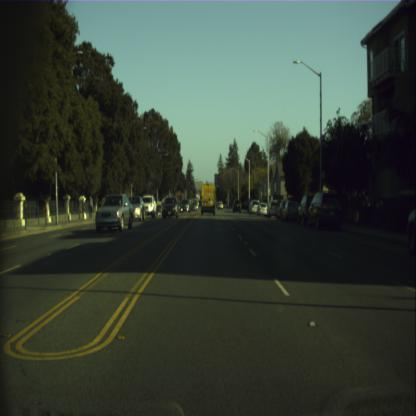Green: (232, 192, 234, 197), (217, 181, 218, 188)
